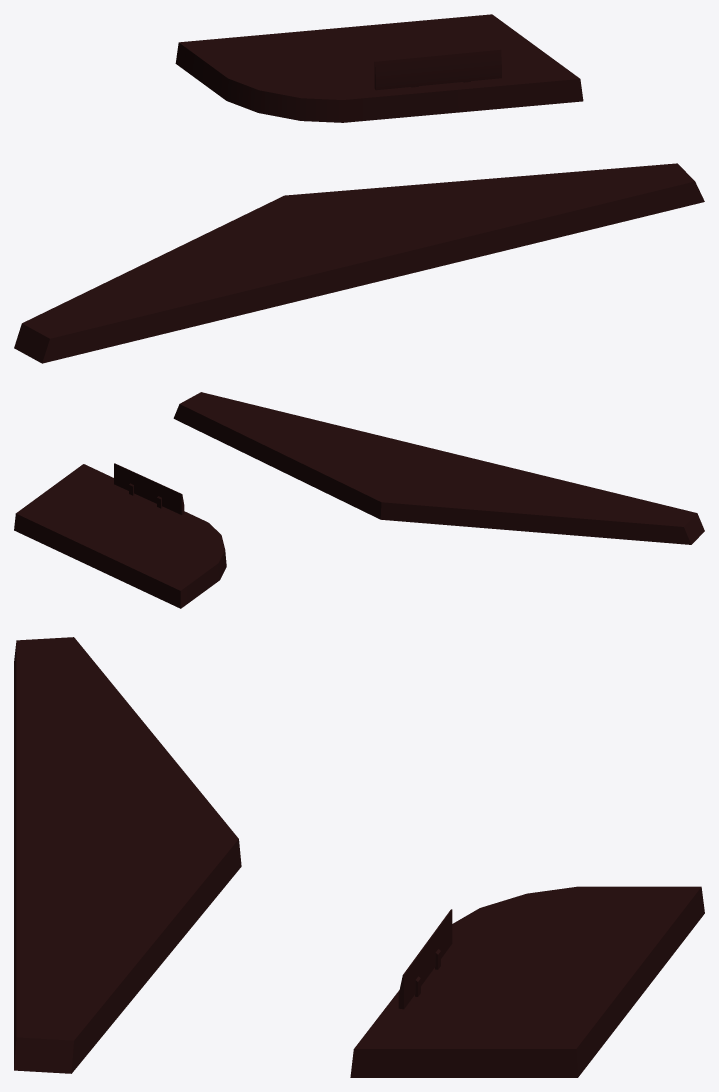
File: parking_island.FBX
3 renders of one model, top to bottom at view 1: azimuth 30°, elevation 25°; view 2: azimuth 150°, elevation 25°; view 3: azimuth 270°, elevation 25°, orthographic. The views are drawn at different scales.
Parts seen in each view (by area): view 1: parking_island; view 2: parking_island; view 3: parking_island.
Boxes of the visible parts, x1=… form: parking_island: x1=14, y1=14, x2=704, y2=363; parking_island: x1=14, y1=392, x2=704, y2=608; parking_island: x1=14, y1=637, x2=704, y2=1077.
Size of the model in its own units: 12.18 by 0.8817 by 8.5.
